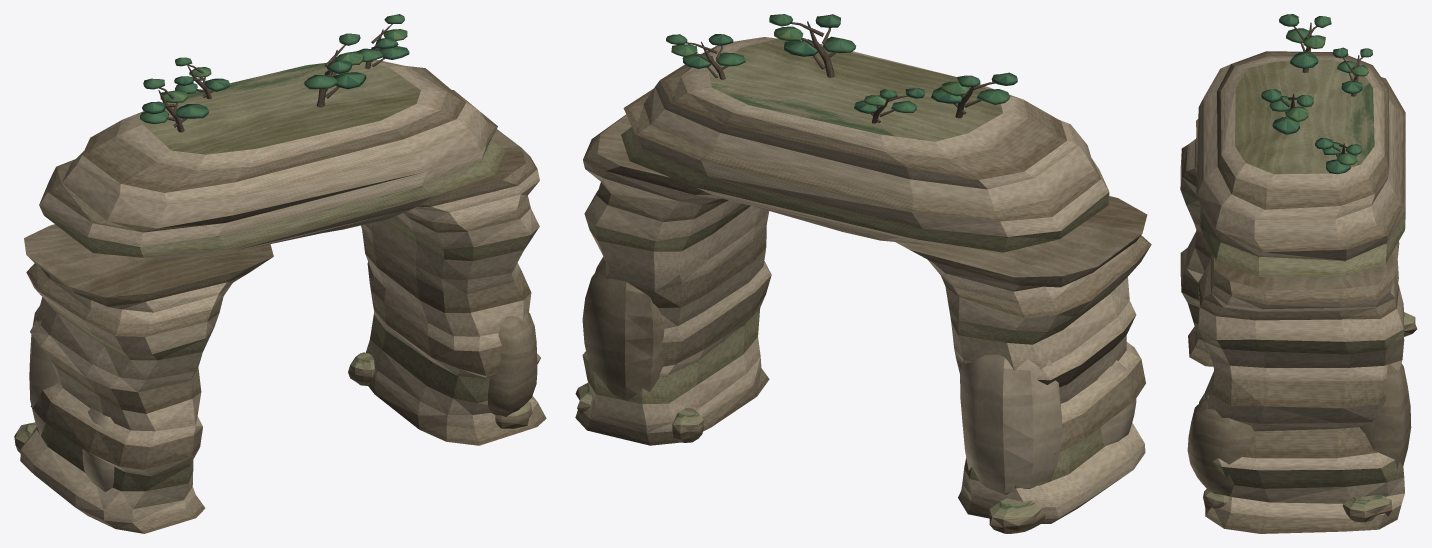
Rendered from zjj_natural_arch_mid.glb.
3 renders of one model, left to right at view 1: azimuth 30°, elevation 25°; view 2: azimuth 150°, elevation 25°; view 3: azimuth 270°, elevation 25°, orthographic. The views are drawn at different scales.
Parts seen in each view (by area): view 1: zjj_natural_arch_mid; view 2: zjj_natural_arch_mid; view 3: zjj_natural_arch_mid.
Boxes of the visible parts, bbox=[...] form: zjj_natural_arch_mid: bbox=[14, 14, 546, 533]; zjj_natural_arch_mid: bbox=[575, 14, 1151, 533]; zjj_natural_arch_mid: bbox=[1180, 14, 1417, 533].
Size of the model in its own units: 28 by 22 by 13.
1 material, 1 textured.
